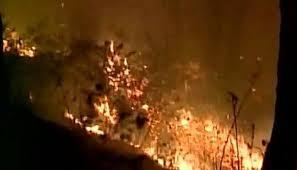fire: (80, 46, 270, 168), (0, 25, 38, 58)
